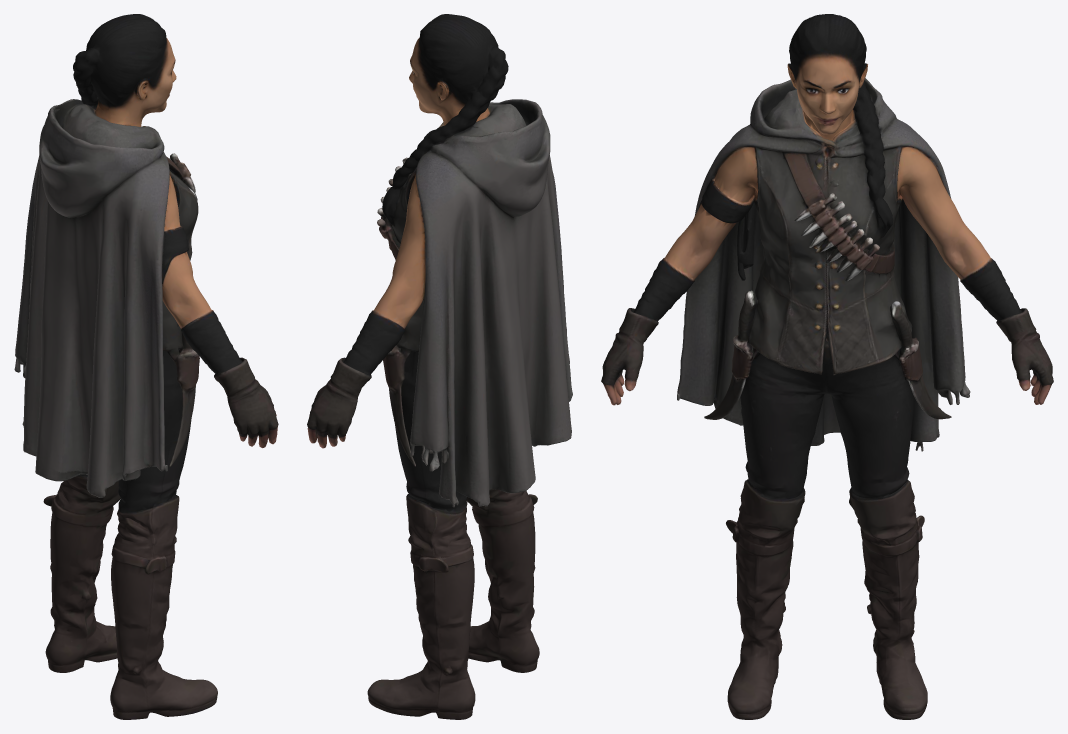
The model's file is knife-rogue-original.glb.
3 renders of one model, left to right at view 1: azimuth 30°, elevation 25°; view 2: azimuth 150°, elevation 25°; view 3: azimuth 270°, elevation 25°, orthographic. The views are drawn at different scales.
Visible parts, largest first — view 1: tripo_node_83e1c726-b1b5-4cf0-b588-f8a1c74a2805; view 2: tripo_node_83e1c726-b1b5-4cf0-b588-f8a1c74a2805; view 3: tripo_node_83e1c726-b1b5-4cf0-b588-f8a1c74a2805.
Boxes of the visible parts, box(x1,y1,x2,y2) form: tripo_node_83e1c726-b1b5-4cf0-b588-f8a1c74a2805: box(14, 14, 278, 719); tripo_node_83e1c726-b1b5-4cf0-b588-f8a1c74a2805: box(307, 14, 572, 719); tripo_node_83e1c726-b1b5-4cf0-b588-f8a1c74a2805: box(601, 14, 1053, 719).
Bounding box in the file's own units: 0.2327 × 1 × 0.6014.
Materials: 1 (1 with a texture image).
